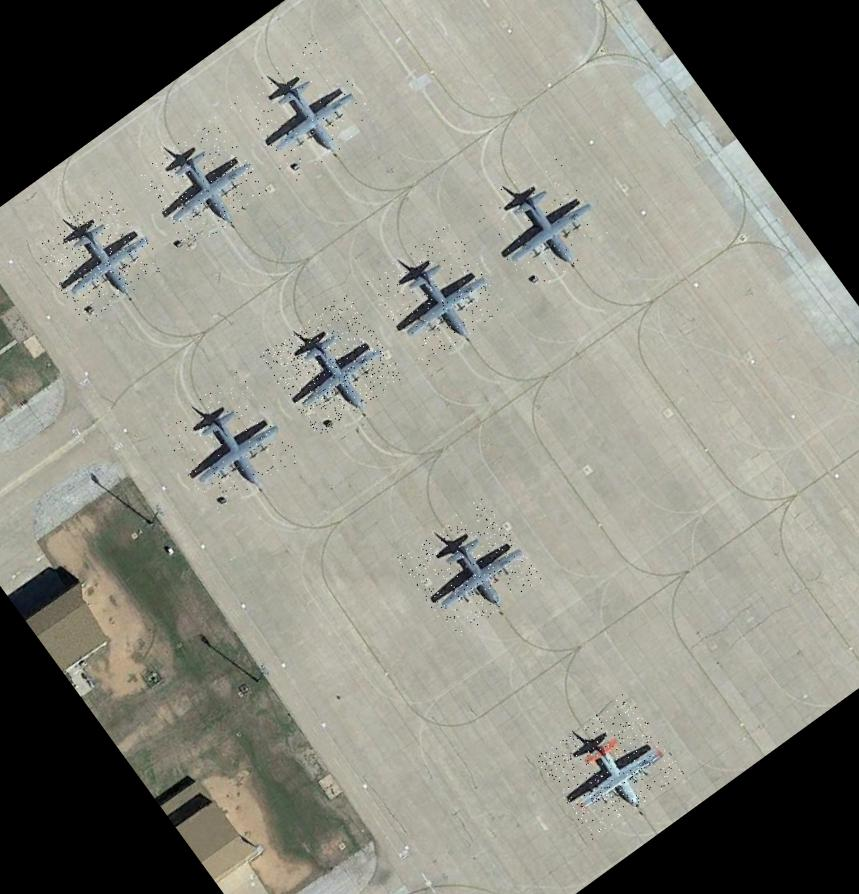A2: (226, 37, 379, 188), (532, 691, 685, 840), (153, 370, 302, 520), (466, 150, 616, 298), (258, 292, 406, 439), (395, 496, 542, 641), (364, 222, 509, 367), (27, 187, 166, 325), (133, 116, 271, 253)
